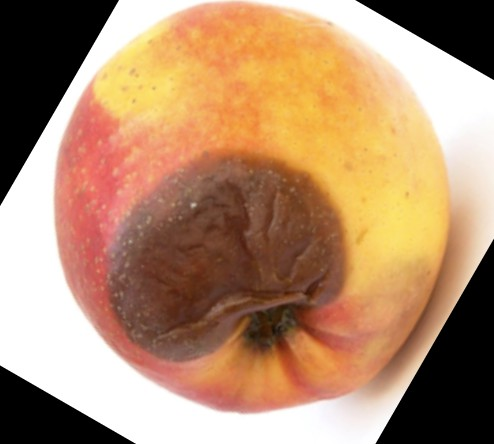rotten_apple: (49, 1, 451, 414)
